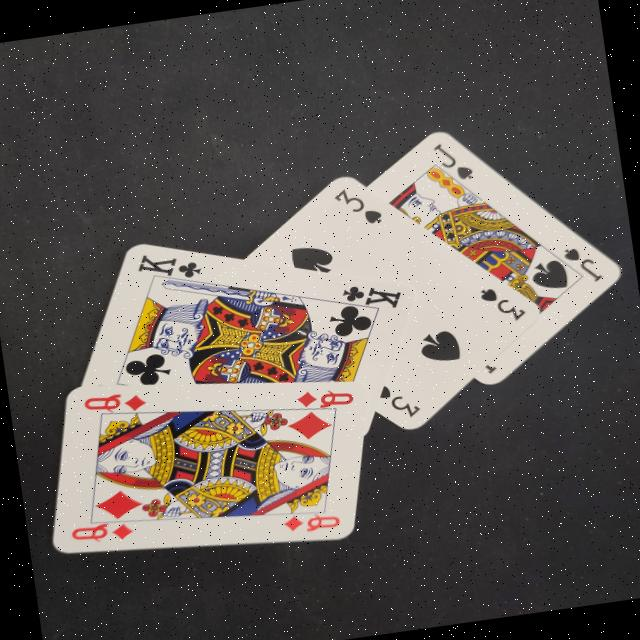3s: (326, 182, 386, 232), (471, 278, 526, 326), (373, 378, 423, 424)
Js: (424, 134, 477, 188), (554, 236, 607, 288)
Kc: (132, 243, 206, 290), (337, 275, 402, 317)
Qd: (74, 382, 150, 422), (287, 380, 361, 416), (64, 515, 139, 548), (276, 504, 344, 540)
